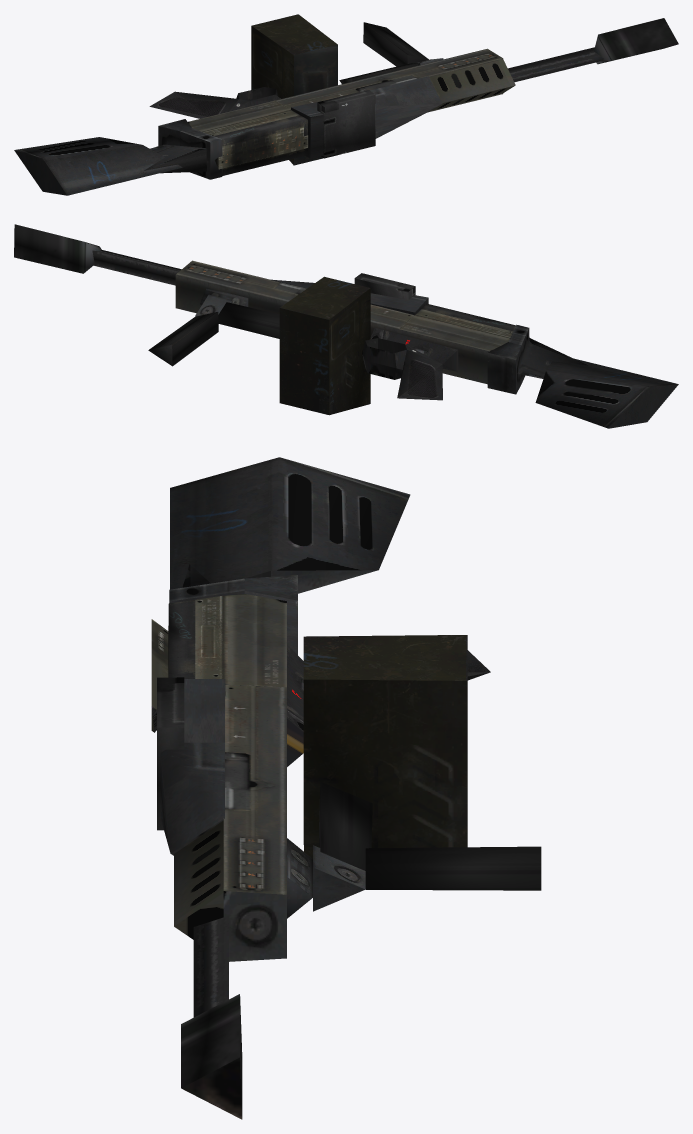
The model's file is t6_wpn_lmg_lsat_world_LOD2.obj.
The picture shows the model from 3 angles, top to bottom: view 1: azimuth 30°, elevation 25°; view 2: azimuth 150°, elevation 25°; view 3: azimuth 270°, elevation 25°; orthographic projection. The views are drawn at different scales.
Parts seen in each view (by area): view 1: mtl_t6_wpn_lmg_lsat_camo2, mtl_t6_wpn_lmg_lsat_camo1, mtl_t6_wpn_lmg_lsat_camo3, mtl_t6_wpn_lmg_lsat_ammo, mtl_t6_wpn_lmg_lsat_camo4; view 2: mtl_t6_wpn_lmg_lsat_camo2, mtl_t6_wpn_lmg_lsat_ammo, mtl_t6_wpn_lmg_lsat_camo1, mtl_t6_wpn_lmg_lsat_camo3, mtl_t6_wpn_lmg_lsat_camo4; view 3: mtl_t6_wpn_lmg_lsat_camo2, mtl_t6_wpn_lmg_lsat_ammo, mtl_t6_wpn_lmg_lsat_camo3, mtl_t6_wpn_lmg_lsat_camo1, mtl_t6_wpn_lmg_lsat_camo4.
Boxes of the visible parts, x1,y1,x2,y2 form: mtl_t6_wpn_lmg_lsat_camo2: (14, 18, 678, 195); mtl_t6_wpn_lmg_lsat_camo1: (144, 58, 503, 179); mtl_t6_wpn_lmg_lsat_camo3: (188, 48, 515, 175); mtl_t6_wpn_lmg_lsat_ammo: (251, 14, 337, 165); mtl_t6_wpn_lmg_lsat_camo4: (339, 22, 428, 83); mtl_t6_wpn_lmg_lsat_camo2: (14, 224, 678, 428); mtl_t6_wpn_lmg_lsat_ammo: (279, 276, 370, 415); mtl_t6_wpn_lmg_lsat_camo1: (175, 273, 587, 394); mtl_t6_wpn_lmg_lsat_camo3: (176, 260, 515, 351); mtl_t6_wpn_lmg_lsat_camo4: (148, 302, 279, 366); mtl_t6_wpn_lmg_lsat_camo2: (170, 457, 490, 1119); mtl_t6_wpn_lmg_lsat_ammo: (303, 635, 467, 858); mtl_t6_wpn_lmg_lsat_camo3: (160, 594, 286, 939); mtl_t6_wpn_lmg_lsat_camo1: (151, 564, 312, 961); mtl_t6_wpn_lmg_lsat_camo4: (319, 781, 541, 890).
Size of the model in its own units: 90.46 by 15.52 by 24.86.
